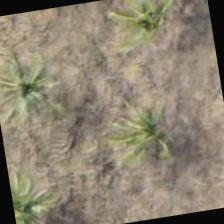Kelapa_Sawit: (101, 86, 204, 190), (0, 37, 81, 139), (102, 0, 203, 72), (7, 159, 72, 223)
